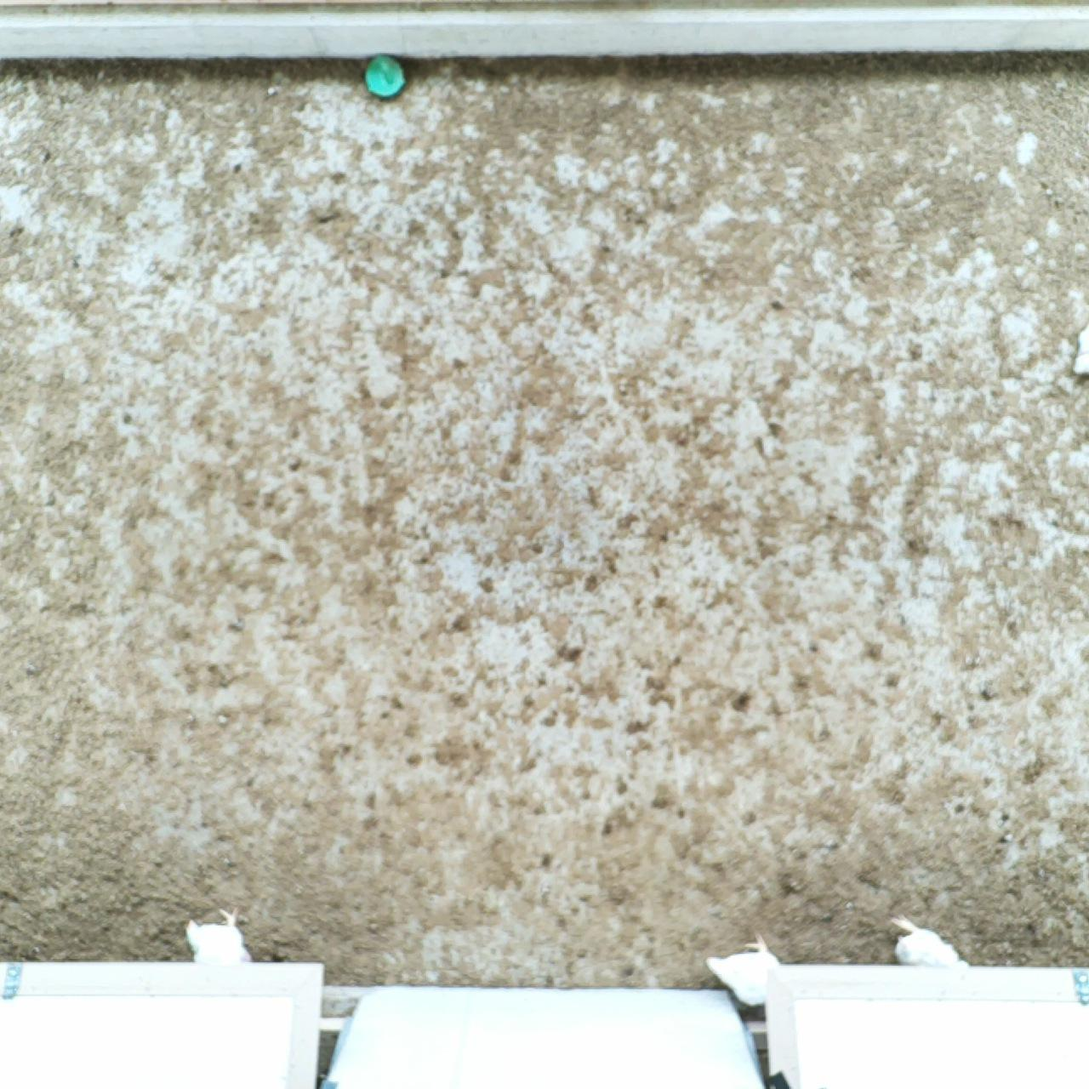chicken: (702, 929, 789, 1012), (884, 911, 973, 970), (180, 901, 258, 968)
